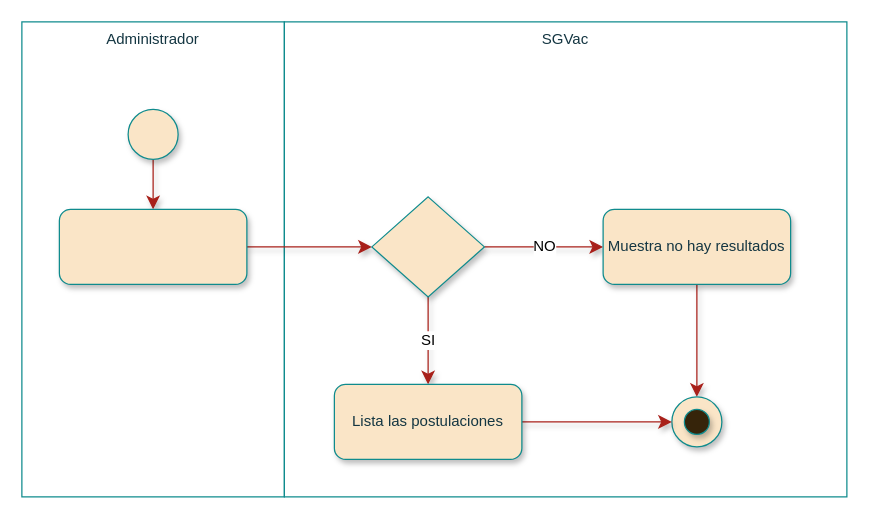
The diagram is 869 pixels wide and 519 high, and some of its shapes have lost their labels. Each missing label, with the centre of its shape:
"Elige la opción de listar postulaciones de una vacante" belongs at point (153, 248).
"Hay resultados ?" belongs at point (429, 248).
